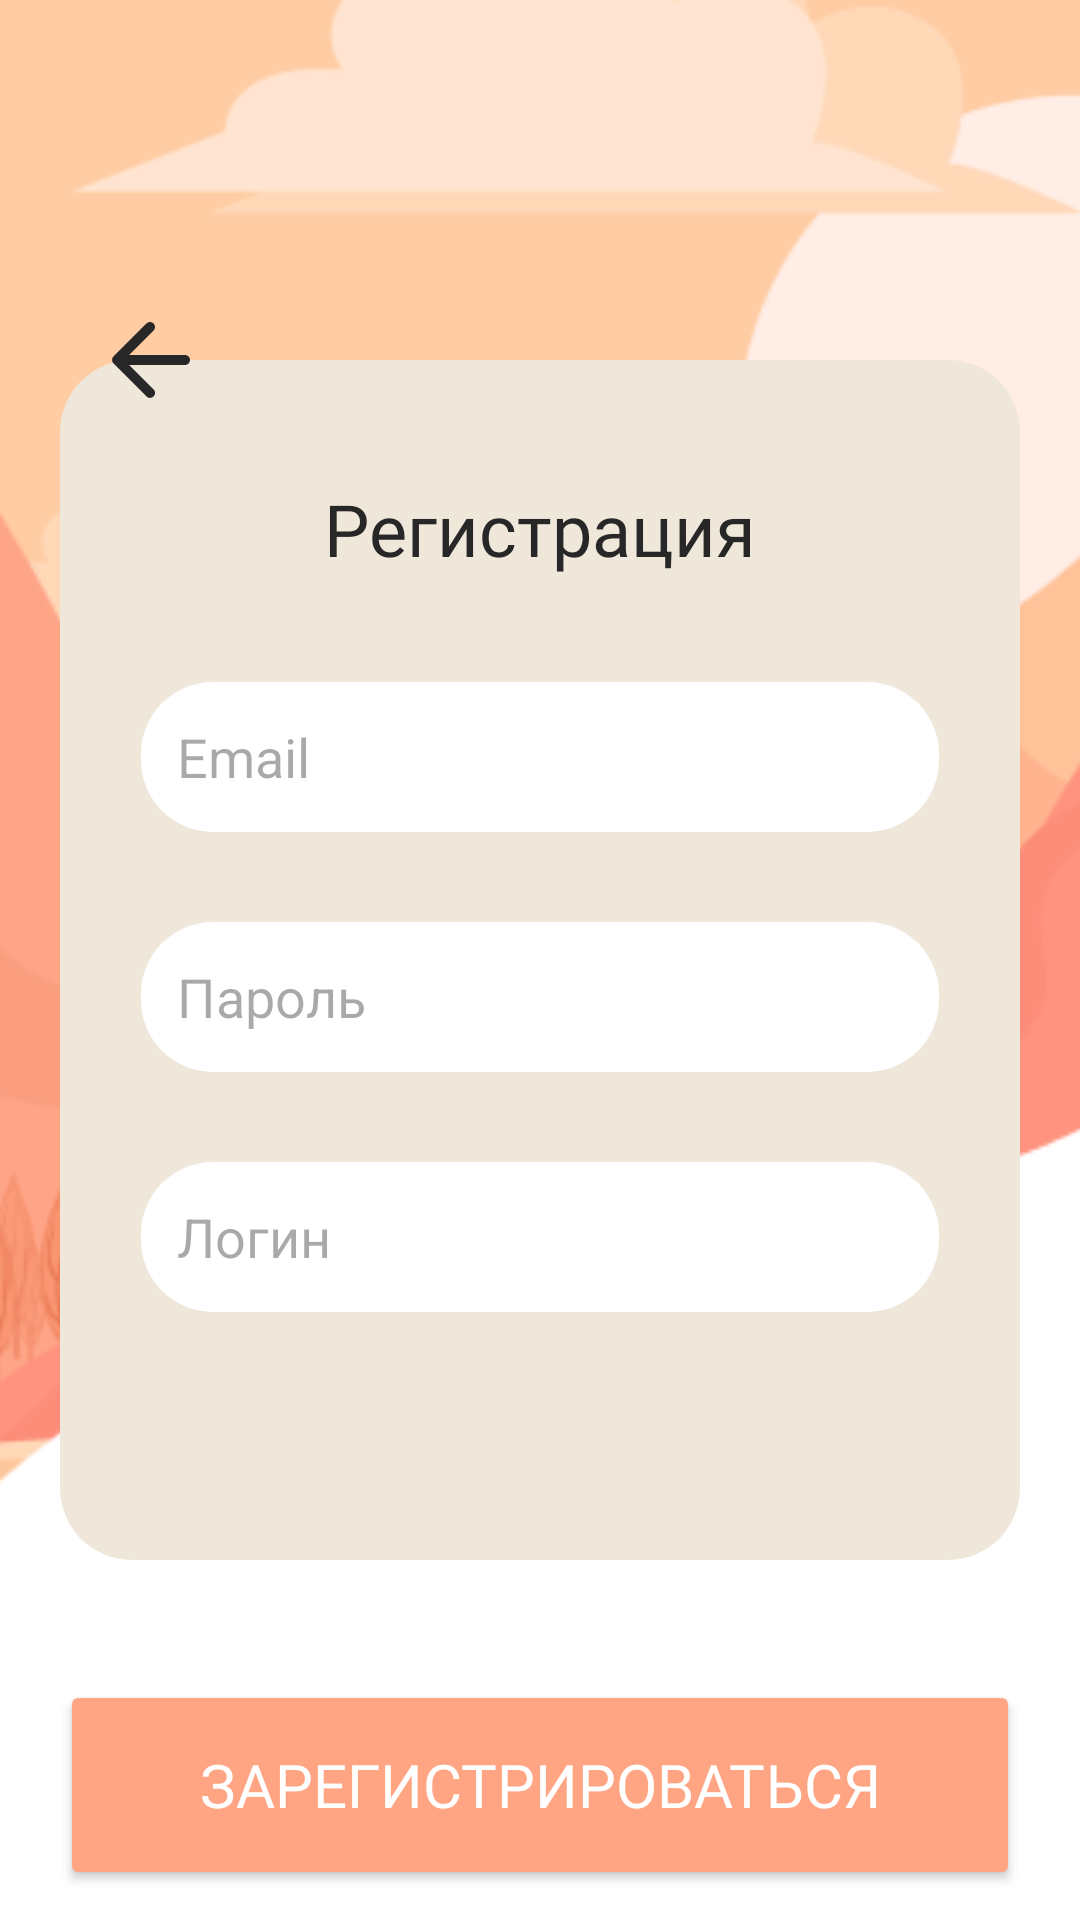

Icon click points for this 1080px x 1920px phone screenshot, format (x,y):
arrow back: (150,360)
